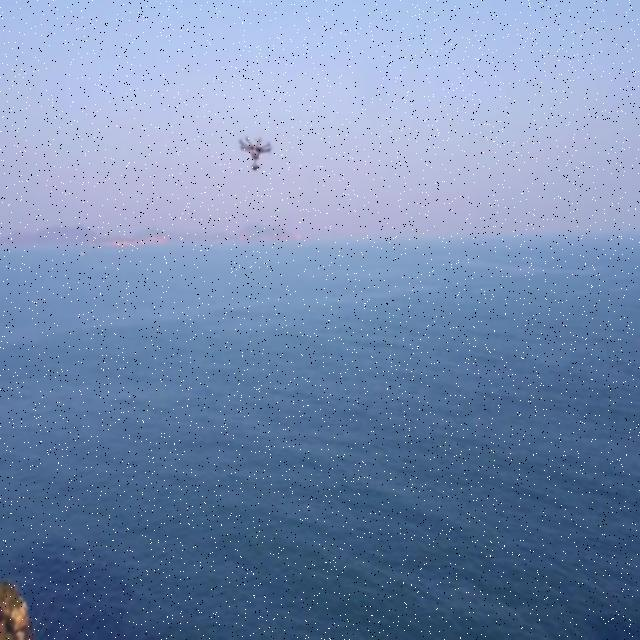UAV: (238, 136, 272, 172)
